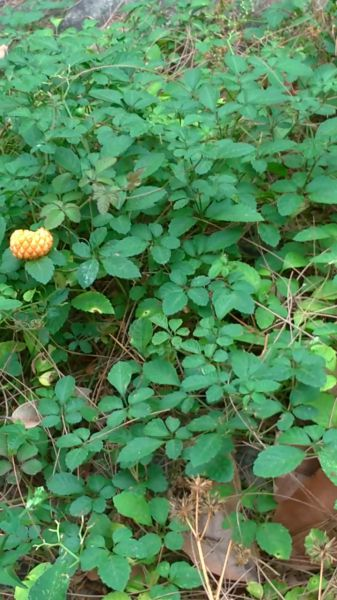eggs: (5, 220, 58, 264)
